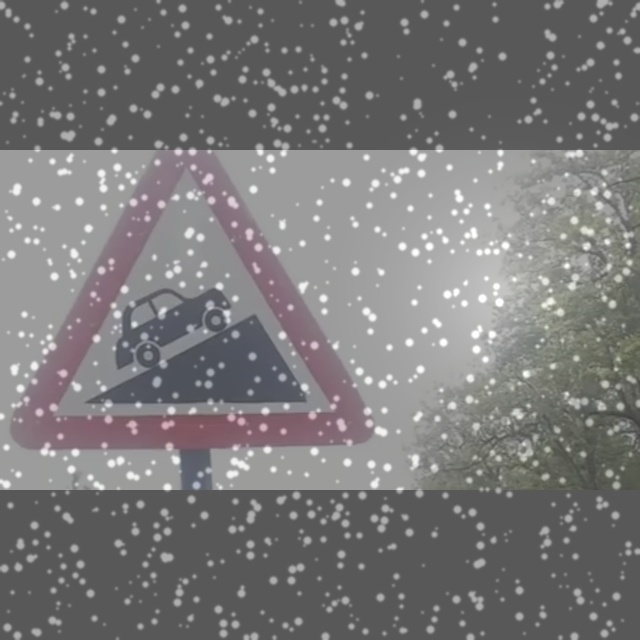Steep_Ascent: (28, 170, 368, 446)
